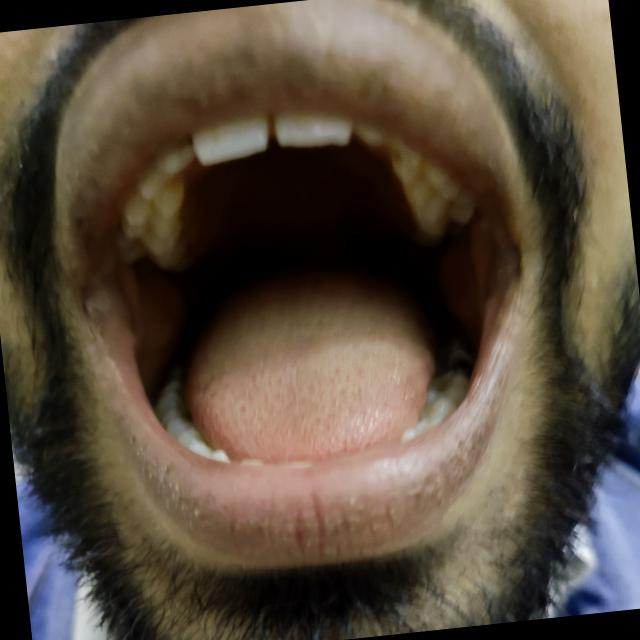No Cancer: (147, 212, 472, 494)
